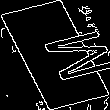M_W: (9, 25, 101, 85)
